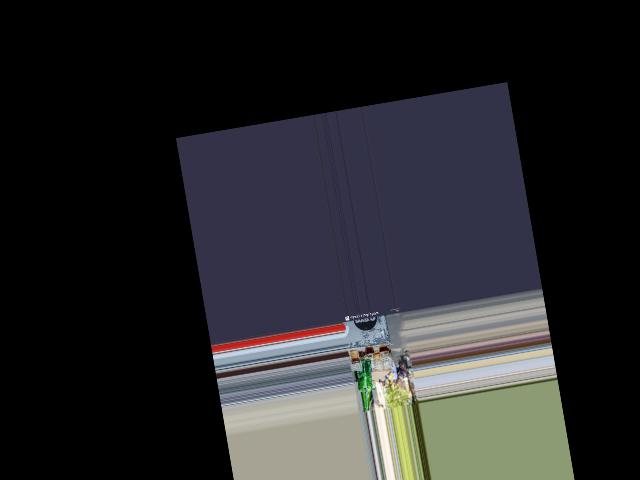beer: (353, 352, 379, 411)
